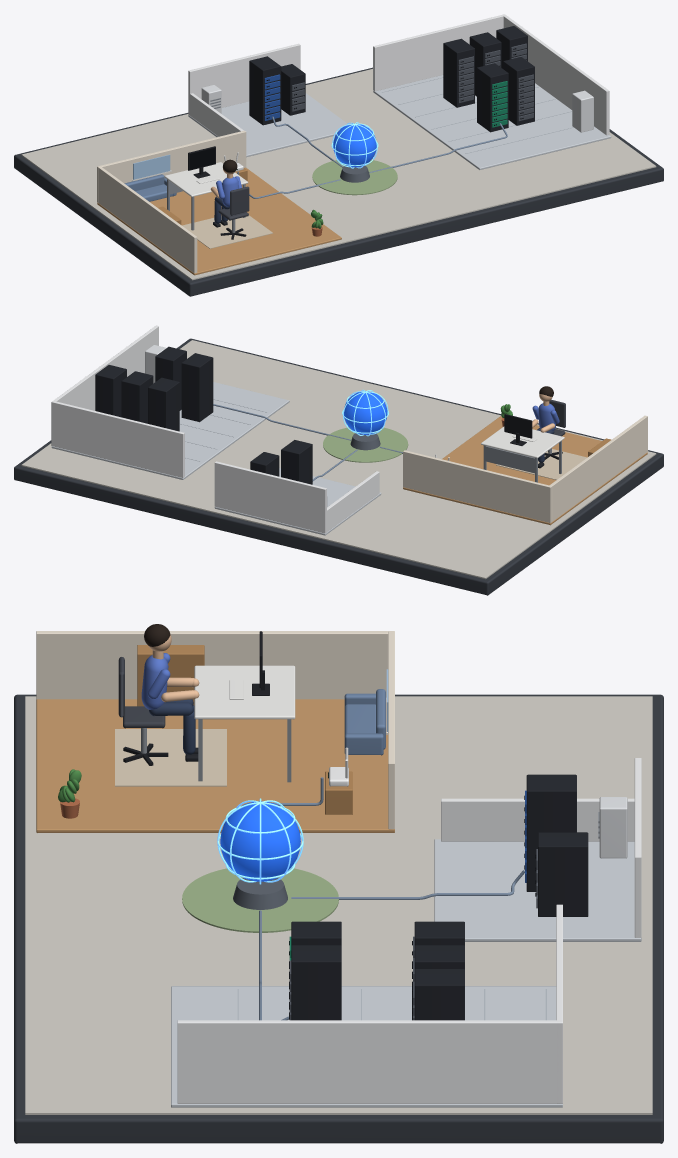
Rendered from dns-net.glb.
3 renders of one model, top to bottom at view 1: azimuth 30°, elevation 25°; view 2: azimuth 150°, elevation 25°; view 3: azimuth 270°, elevation 25°, orthographic. The views are drawn at different scales.
Parts seen in each view (by area): view 1: Static, Part_DNS, Part_Web, Net_Globe, Scr_PC; view 2: Static, Part_Web, Net_Globe, Part_DNS; view 3: Static, Net_Globe, Part_DNS, Part_Web.
Part boxes in pixels (<box>): Static: <box>14,14,663,296</box>; Part_DNS: <box>249,56,281,125</box>; Part_Web: <box>477,63,508,132</box>; Net_Globe: <box>331,122,378,168</box>; Scr_PC: <box>189,148,215,169</box>; Static: <box>14,325,663,595</box>; Part_Web: <box>181,353,213,422</box>; Net_Globe: <box>342,389,388,436</box>; Part_DNS: <box>281,440,312,484</box>; Static: <box>14,624,663,1143</box>; Net_Globe: <box>217,798,303,884</box>; Part_DNS: <box>525,774,576,891</box>; Part_Web: <box>289,921,341,960</box>.
Bounding box in the file's own units: 1.8 × 0.3232 × 1.16.
